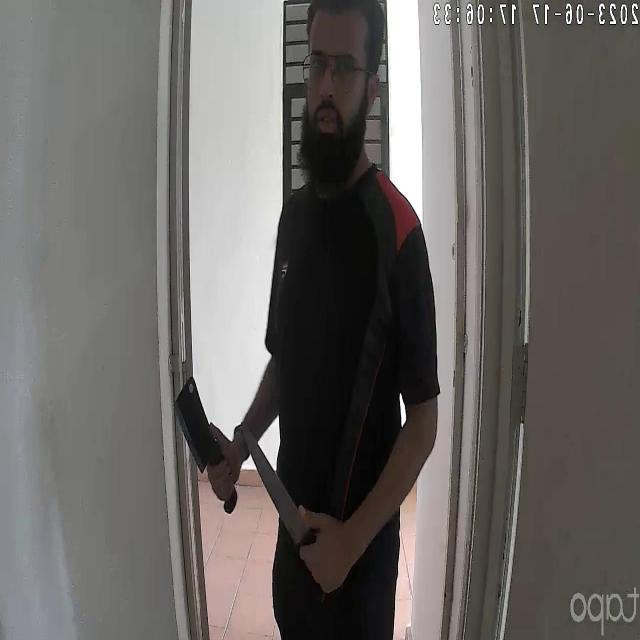Knife: (235, 419, 331, 560), (171, 375, 238, 515)
